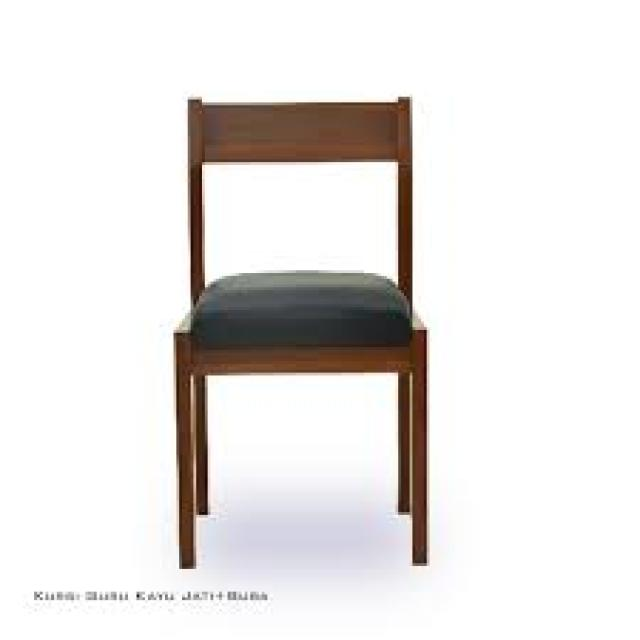chair: (166, 96, 432, 571)
